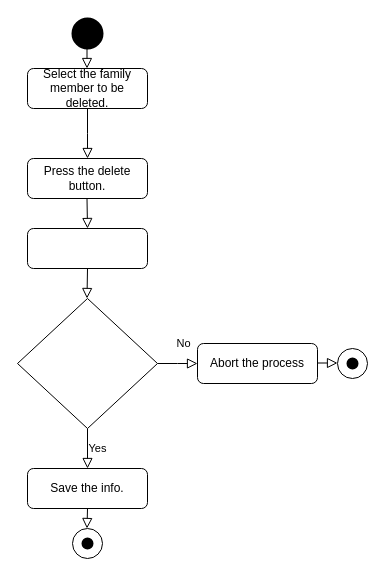
This 385x576 diagram has some shape labels left out. The shapes that lost their labels are listed below. From the top down, each one's centre as x and y in pixels, then its label:
At (x=87, y=248): "Show confirmation message.".
At (x=87, y=363): "Ask the user if he or she is sure.".
